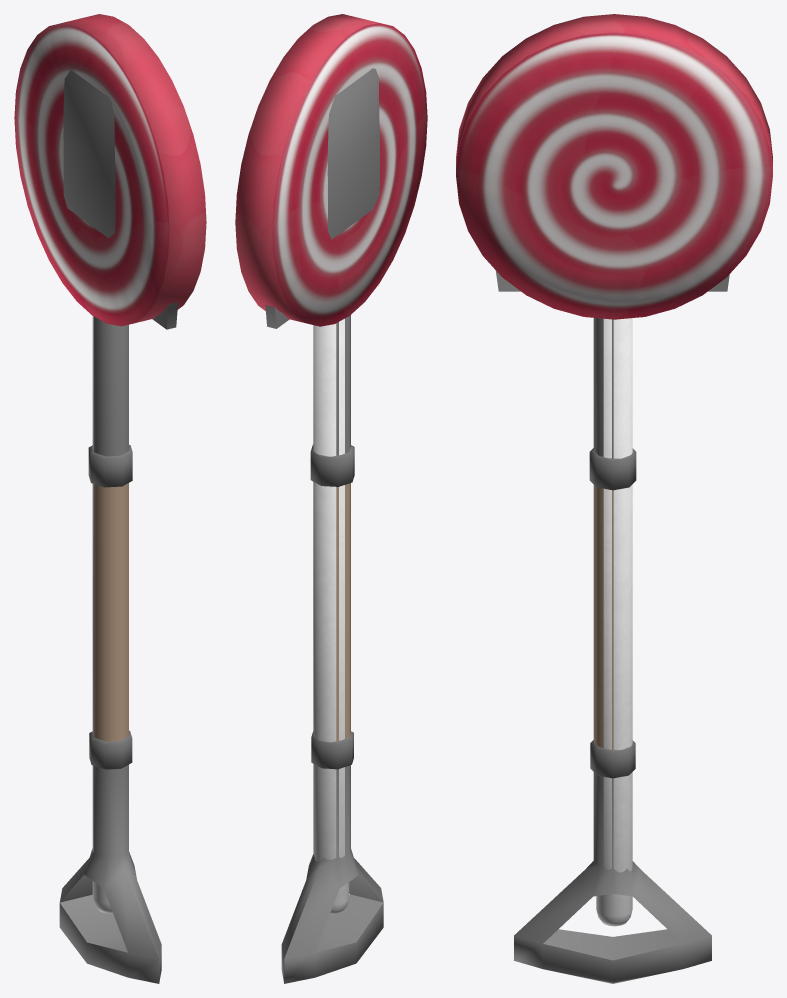
Rendered from lollypop.fbx.
The picture shows the model from 3 angles, left to right: view 1: azimuth 30°, elevation 25°; view 2: azimuth 150°, elevation 25°; view 3: azimuth 270°, elevation 25°; orthographic projection. The views are drawn at different scales.
Parts seen in each view (by area): view 1: Cylinder, ShovelItem, Stick; view 2: Cylinder, ShovelItem, Stick; view 3: Cylinder, ShovelItem, Stick.
Boxes of the visible parts, left/top/right/bottom form: Cylinder: left=14, top=14, right=206, bottom=326; ShovelItem: left=59, top=69, right=177, bottom=983; Stick: left=92, top=316, right=112, bottom=913; Cylinder: left=235, top=14, right=427, bottom=326; ShovelItem: left=265, top=68, right=383, bottom=983; Stick: left=313, top=318, right=349, bottom=914; Cylinder: left=456, top=14, right=772, bottom=319; ShovelItem: left=495, top=270, right=729, bottom=983; Stick: left=596, top=318, right=632, bottom=926.
Bounding box in the file's own units: 9.35 × 172 × 51.46.
